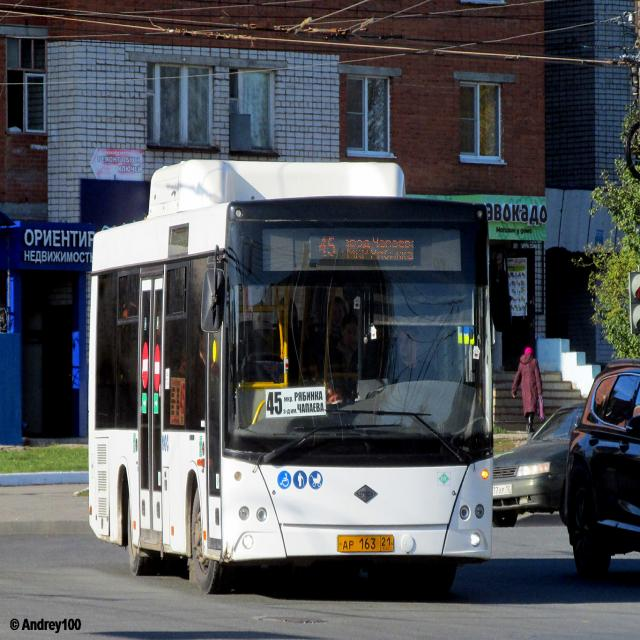number-of-bus: (267, 390, 285, 418)
